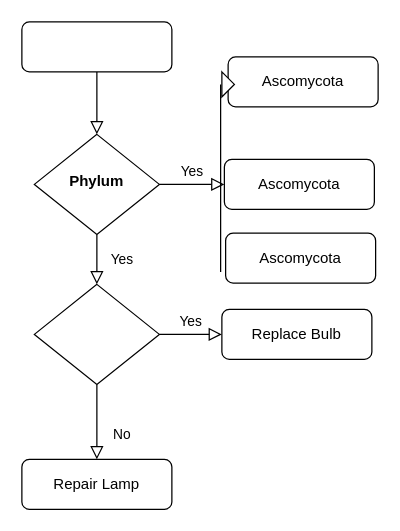
Image size: 400x531. Some labels were removed from this diagram. The shapes that lost their labels are listed below. From the top down, each one's box as (x1, y1, x2, y2) in pixels, then its label:
(21, 21, 172, 72): Kingdom : Fungi
(33, 283, 159, 384): Bulb burned out?
